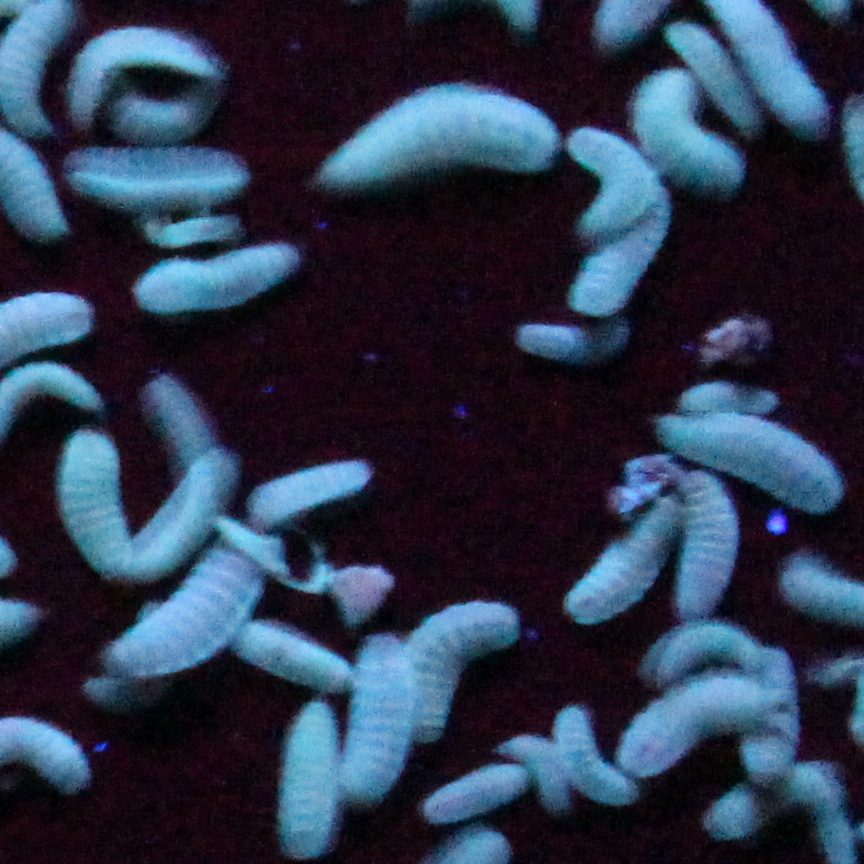larve: (322, 96, 543, 172), (151, 372, 234, 570), (685, 411, 848, 509), (136, 555, 258, 679), (402, 601, 517, 711), (645, 85, 745, 183), (578, 509, 663, 621), (629, 689, 775, 753), (70, 431, 134, 567), (83, 155, 248, 201), (148, 243, 295, 294), (675, 27, 750, 125), (258, 448, 365, 516), (83, 35, 212, 89), (358, 645, 400, 801), (597, 201, 663, 296), (580, 135, 648, 226), (683, 494, 731, 616), (658, 618, 756, 674), (263, 621, 348, 684), (292, 716, 331, 850), (722, 755, 780, 835), (514, 321, 631, 360), (126, 89, 217, 138), (573, 721, 634, 794), (522, 745, 580, 811), (431, 772, 507, 821), (687, 382, 790, 414), (158, 216, 239, 240)
